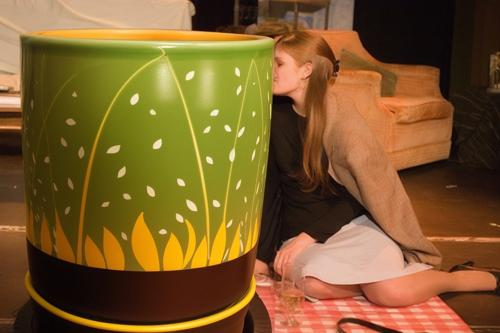bottle: (162, 238, 190, 305)
chair: (303, 28, 455, 174)
person: (274, 26, 497, 308)
person/foot: (449, 265, 500, 293)
person/hand: (271, 233, 317, 278)
person/head: (271, 31, 335, 96)
pottedplant: (19, 28, 274, 332)
